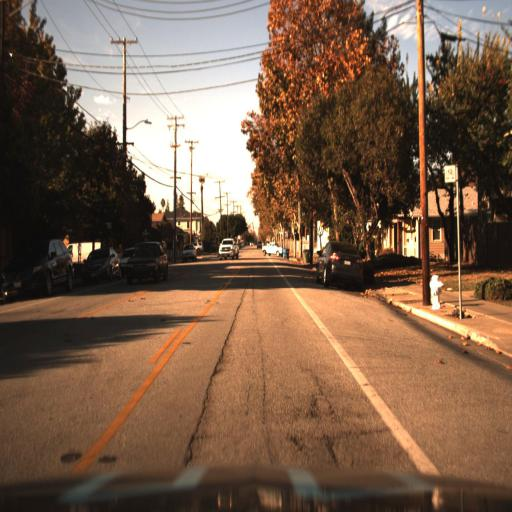car: (0, 234, 76, 301), (314, 238, 363, 290), (79, 246, 121, 286), (124, 241, 167, 278), (218, 236, 242, 263), (262, 240, 285, 259)
